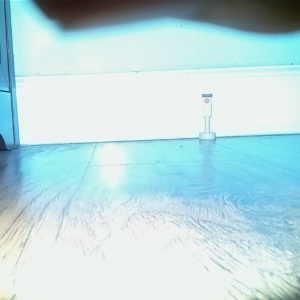traffic light red: (198, 92, 216, 140)
